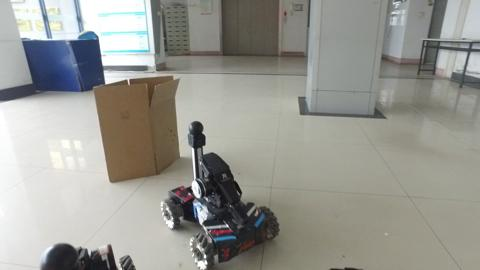box: (94, 71, 179, 181)
chariot: (161, 116, 280, 268)
